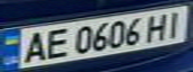0: (72, 24, 96, 55), (109, 18, 130, 48)
6: (124, 15, 148, 46), (90, 20, 112, 52)
A: (18, 29, 51, 64)
E: (39, 26, 72, 61)
H: (142, 11, 172, 43)
I: (160, 7, 190, 38)
